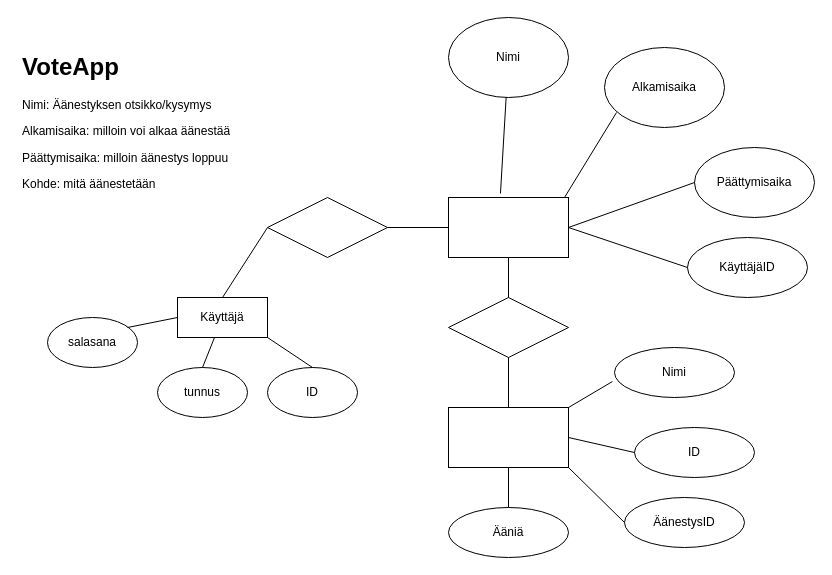
Image size: 832x575. Some labels were removed from this diagram. Here are the shapes that lost their labels. From the top down, the box of each, then its label:
(266, 196, 388, 258): Omistaa
(448, 196, 568, 258): Äänestys
(448, 296, 568, 358): sisältää
(448, 406, 568, 468): Vaihtoehto
